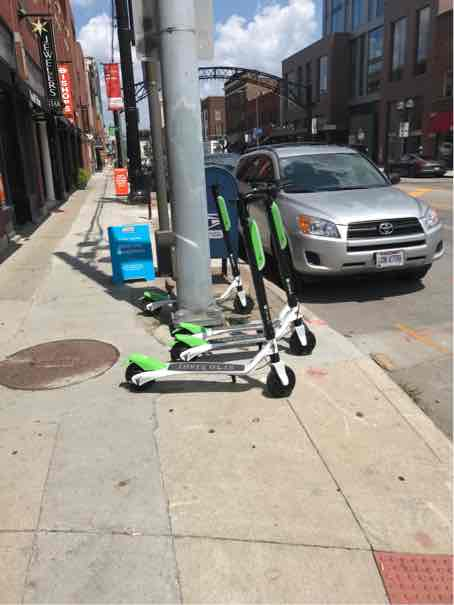scooter: (135, 180, 301, 401)
